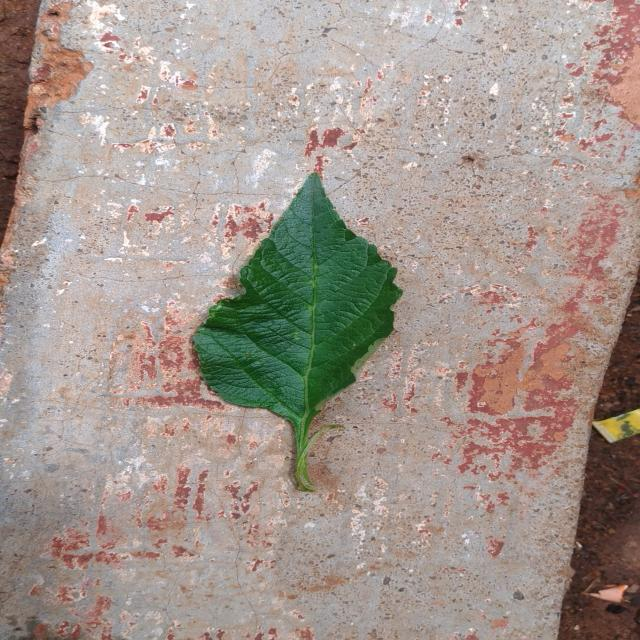Lantana: (191, 172, 402, 491)
